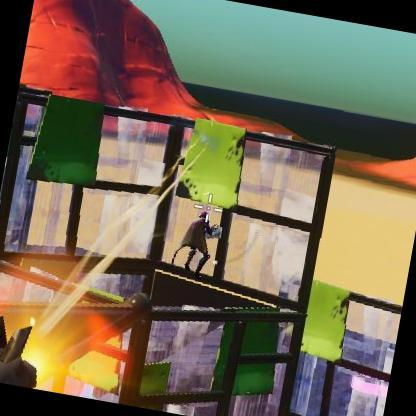person: (172, 206, 218, 277)
